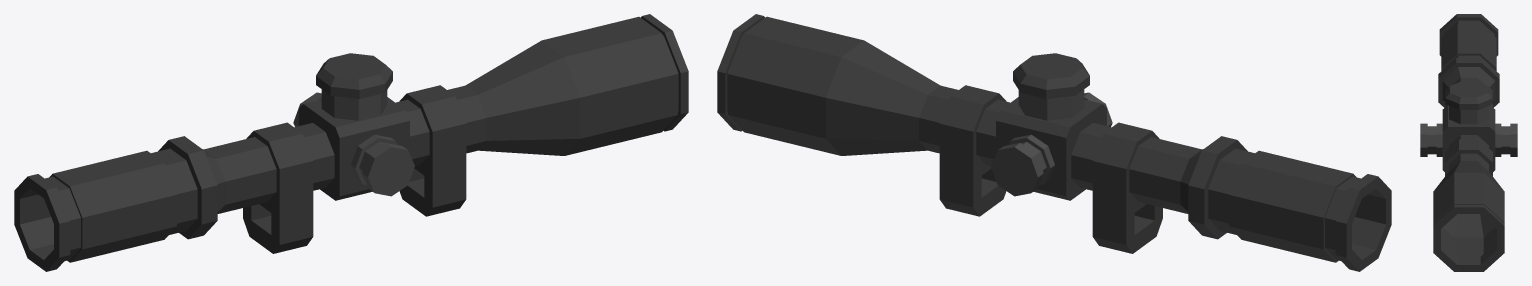
The model's file is Optic_07.fbx.
3 renders of one model, left to right at view 1: azimuth 30°, elevation 25°; view 2: azimuth 150°, elevation 25°; view 3: azimuth 270°, elevation 25°, orthographic. The views are drawn at different scales.
Parts seen in each view (by area): view 1: Optic_07; view 2: Optic_07; view 3: Optic_07.
Boxes of the visible parts, left/top/right/bottom form: Optic_07: left=14, top=14, right=688, bottom=271; Optic_07: left=717, top=14, right=1391, bottom=271; Optic_07: left=1420, top=14, right=1517, bottom=271.
Bounding box in the file's own units: 0.3973 × 0.095 × 0.0823.
